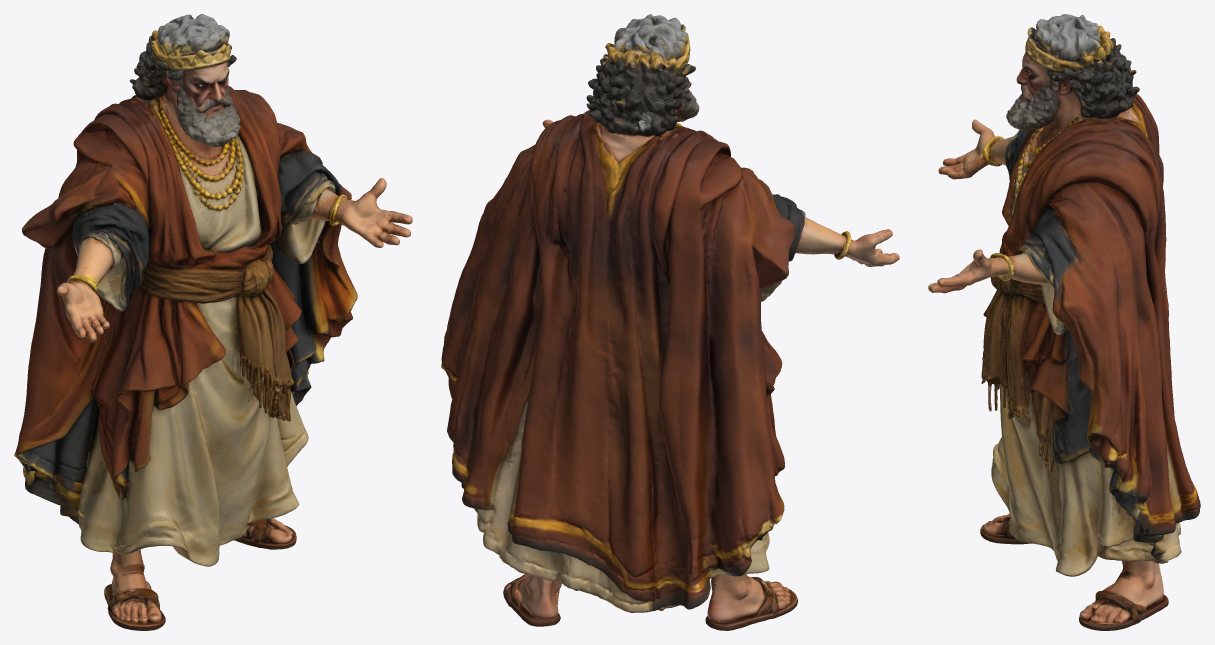
The model's file is Meshy_AI_Ancient_Ruler_0319014931_texture.glb.
3 views of the same model, side by side, from view 1: azimuth 30°, elevation 25°; view 2: azimuth 150°, elevation 25°; view 3: azimuth 270°, elevation 25° (orthographic). The views are drawn at different scales.
Bounding box in the file's own units: 1.29 × 1.9 × 0.8449.
1 material, 1 textured.
